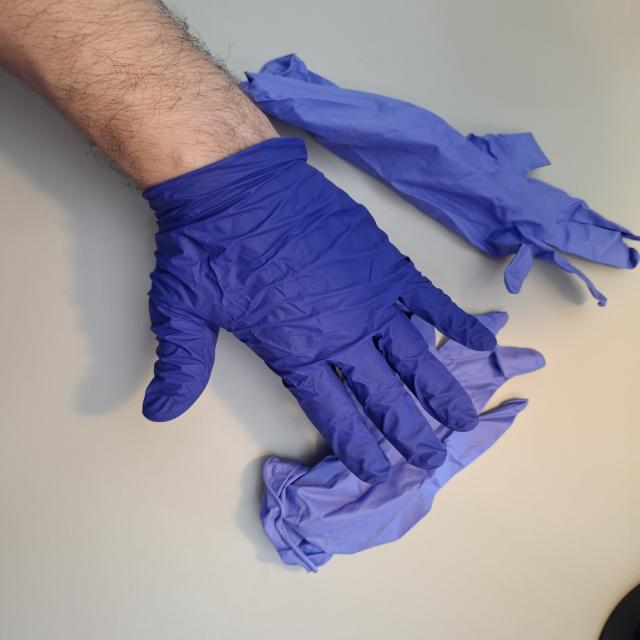glove_on: (134, 131, 499, 487)
